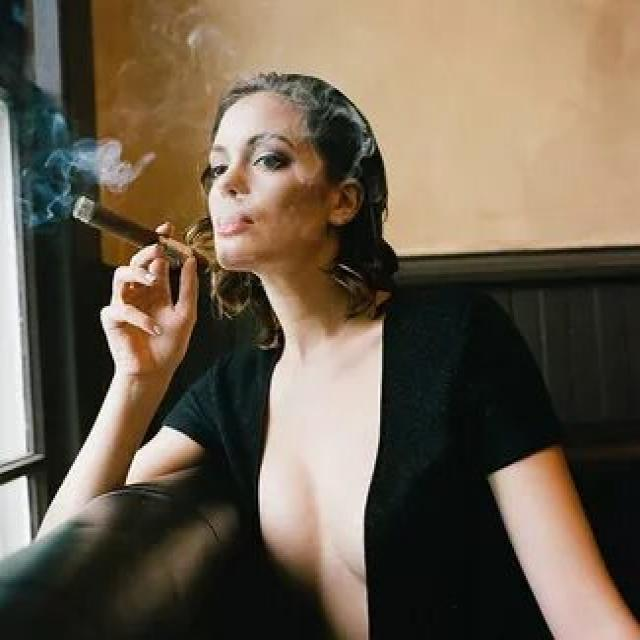cigarette: (73, 190, 222, 292)
